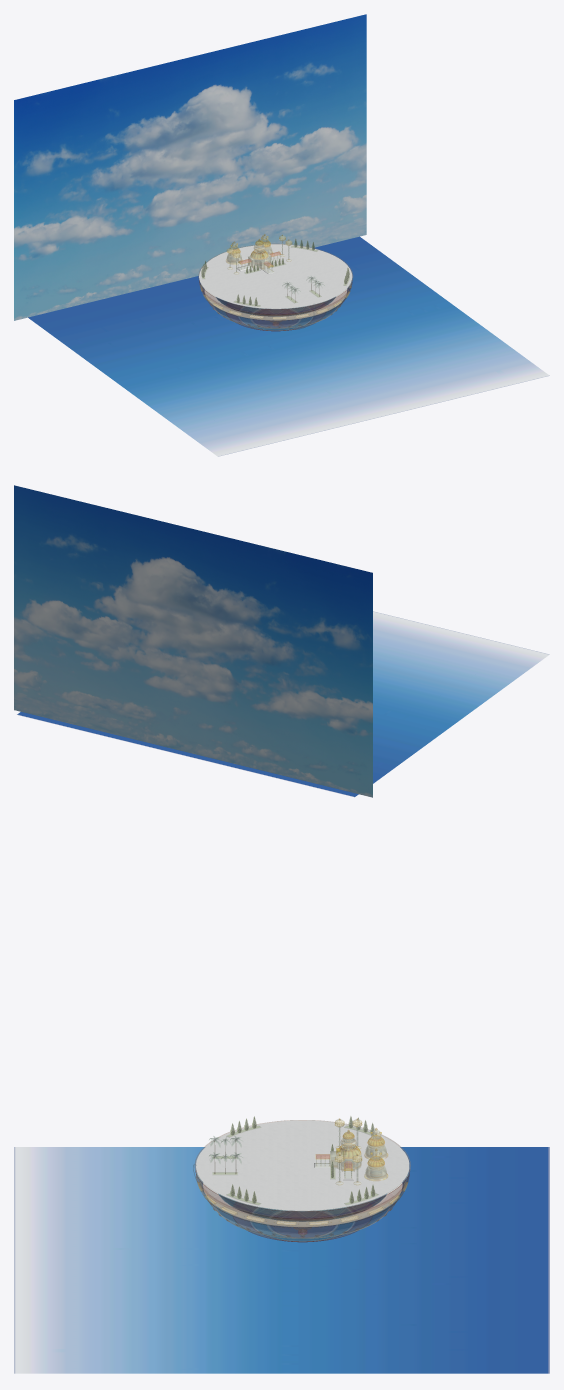
Rendered from KamiLookout.glb.
3 views of the same model, one above another, from view 1: azimuth 30°, elevation 25°; view 2: azimuth 150°, elevation 25°; view 3: azimuth 270°, elevation 25° (orthographic). The views are drawn at different scales.
Parts seen in each view (by area): view 1: Plane.001, Plane, DBX Kami Lookout; view 2: Plane.001, Plane; view 3: Plane, DBX Kami Lookout.
Boxes of the visible parts, left/top/right/bottom form: Plane.001: left=14, top=14, right=366, bottom=320; Plane: left=28, top=236, right=549, bottom=456; DBX Kami Lookout: left=198, top=234, right=352, bottom=331; Plane.001: left=14, top=485, right=372, bottom=797; Plane: left=17, top=611, right=549, bottom=797; Plane: left=14, top=1147, right=549, bottom=1373; DBX Kami Lookout: left=193, top=1116, right=410, bottom=1242.
Bounding box in the file's own units: 240 × 144 × 226.
Materials: 39 (39 with a texture image).
